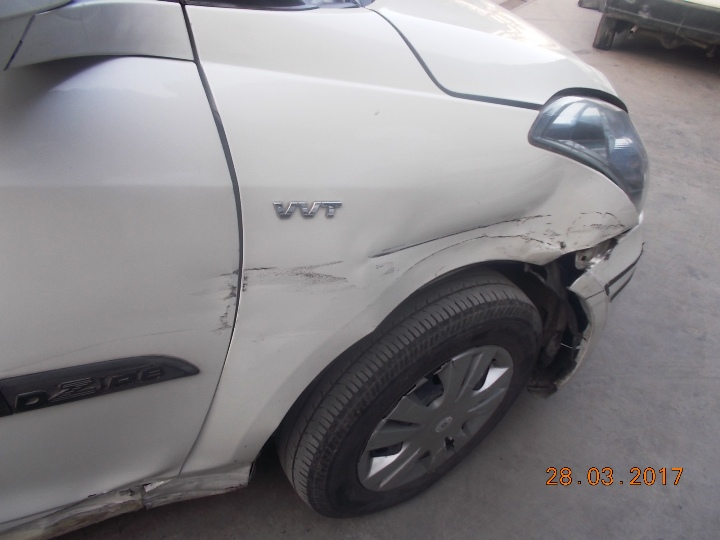Dent: (370, 204, 533, 263)
Dislocation: (540, 223, 611, 287)
Scratch_or_spot: (299, 258, 343, 293)
